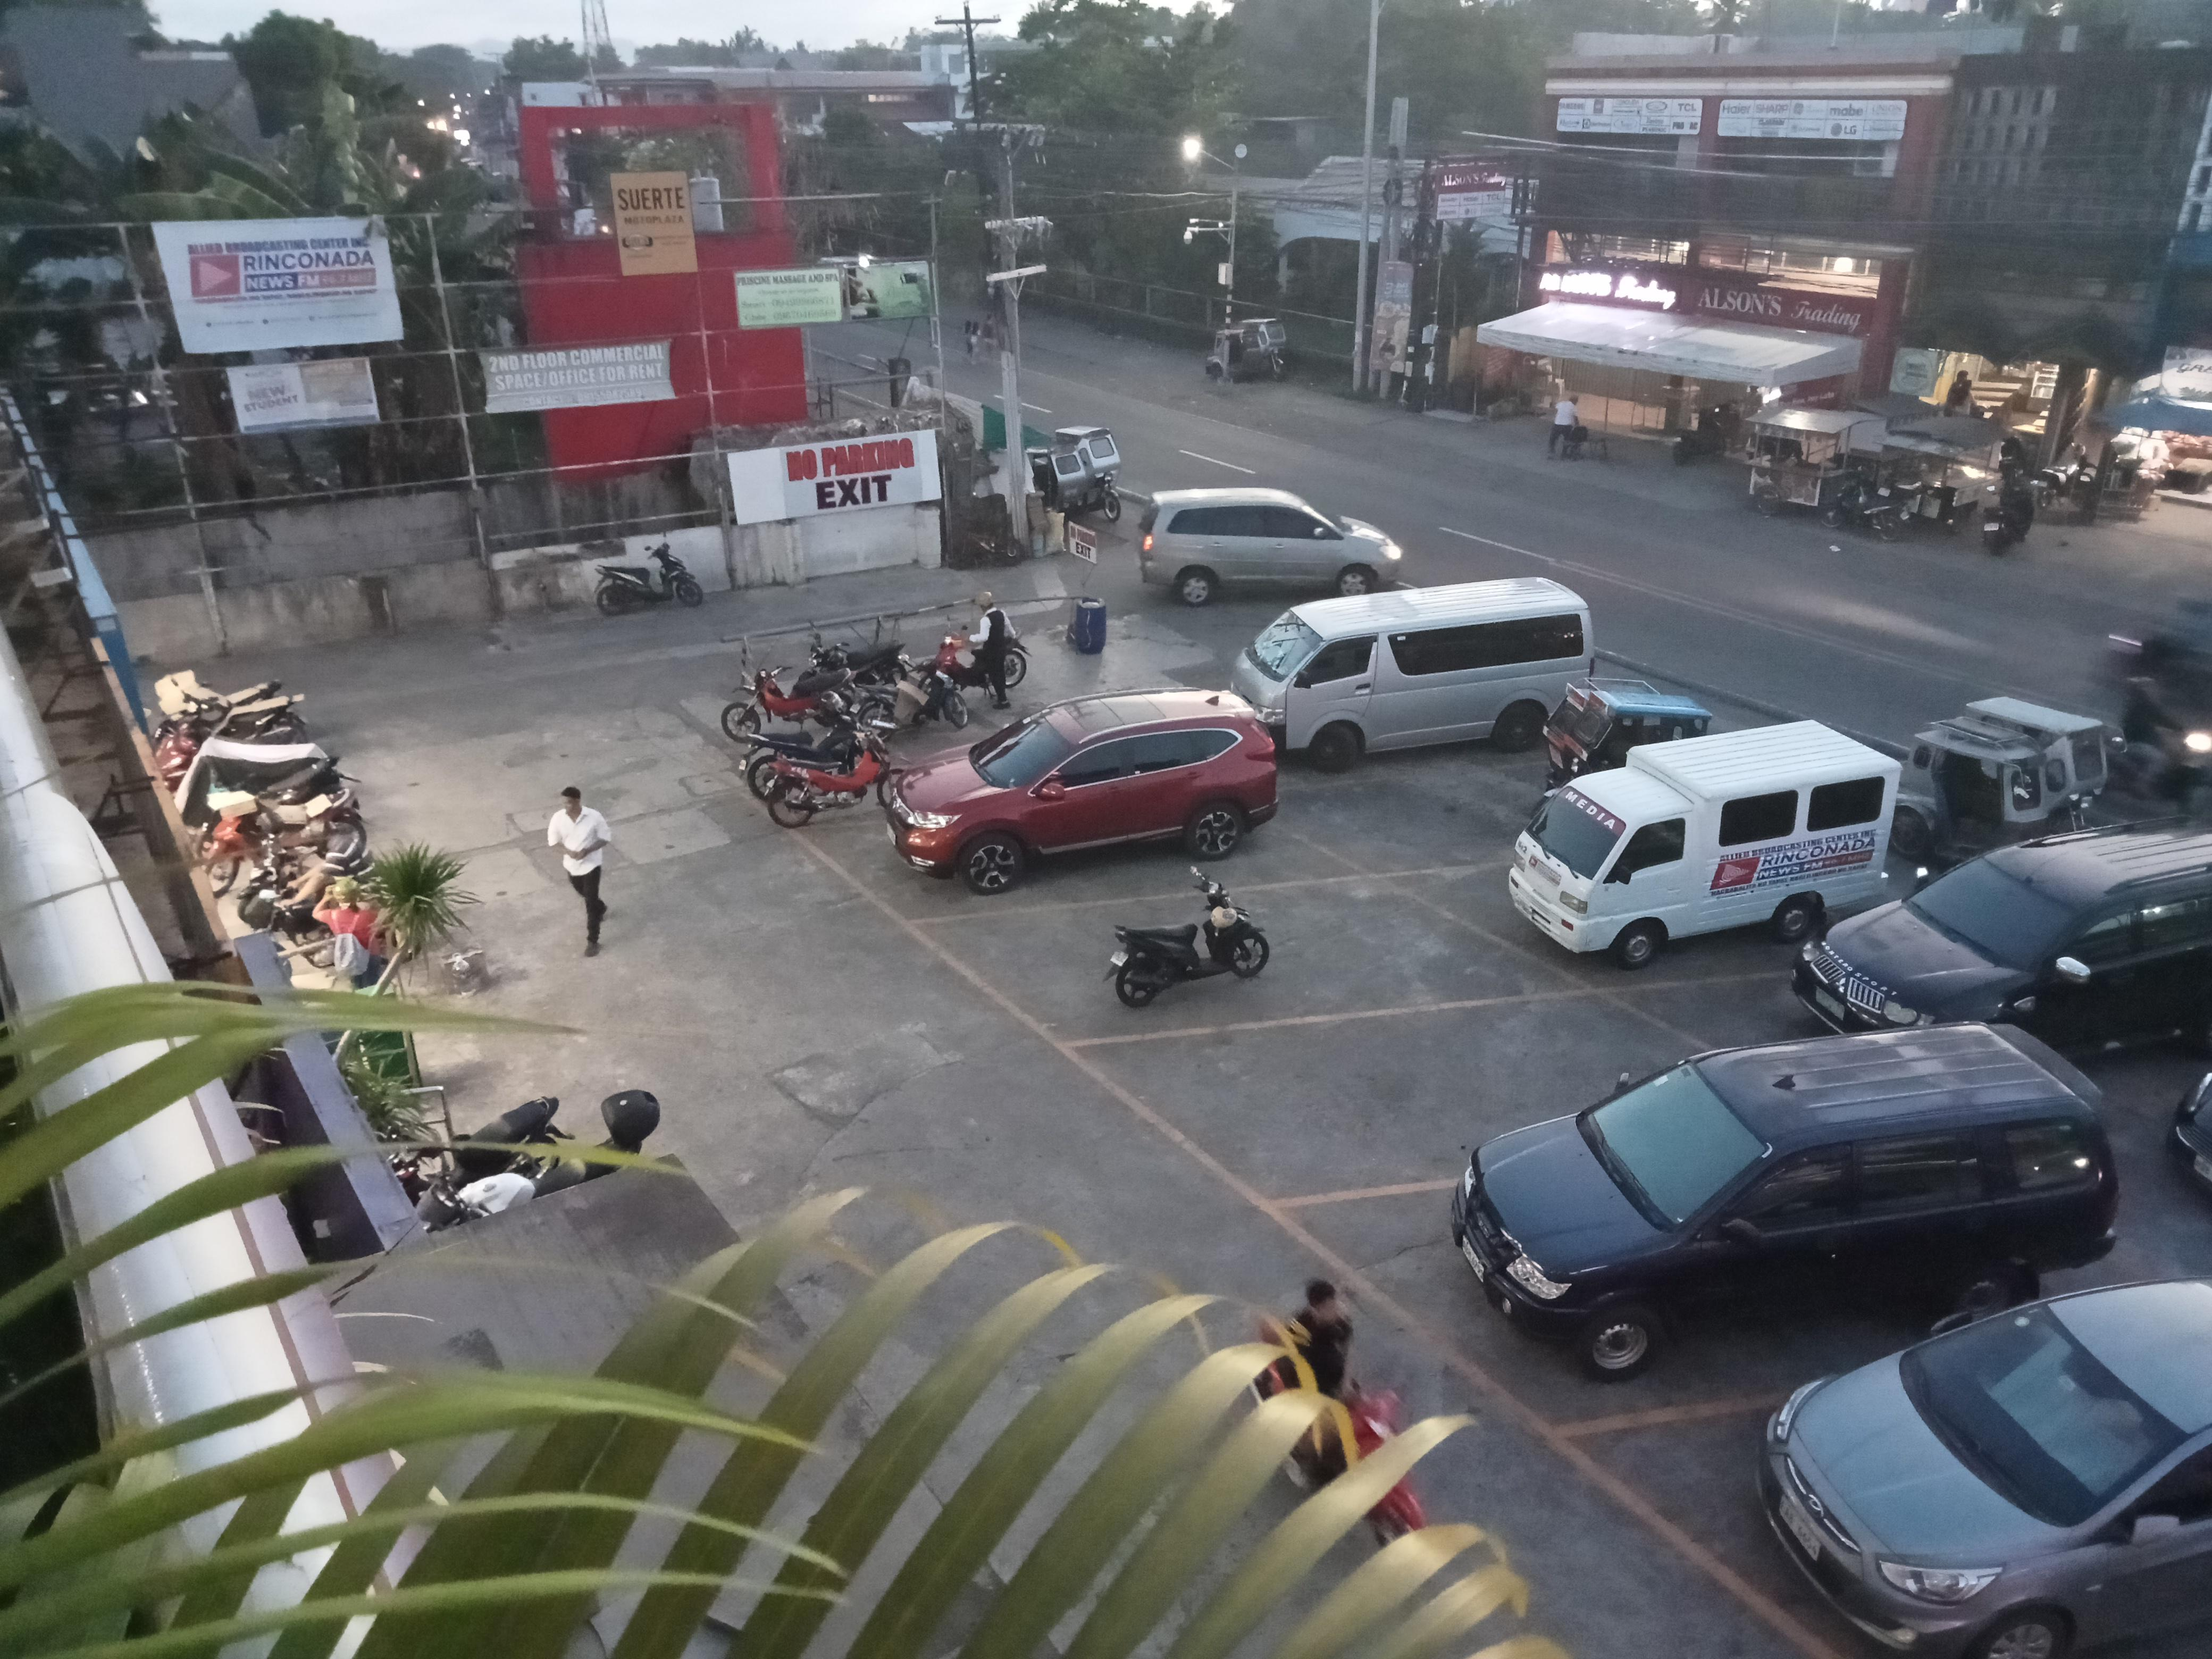occupied: (1364, 823, 2022, 1000), (907, 875, 1597, 1044), (779, 779, 1395, 934)
vacant: (1249, 1114, 2212, 1450), (1050, 985, 1867, 1216)
